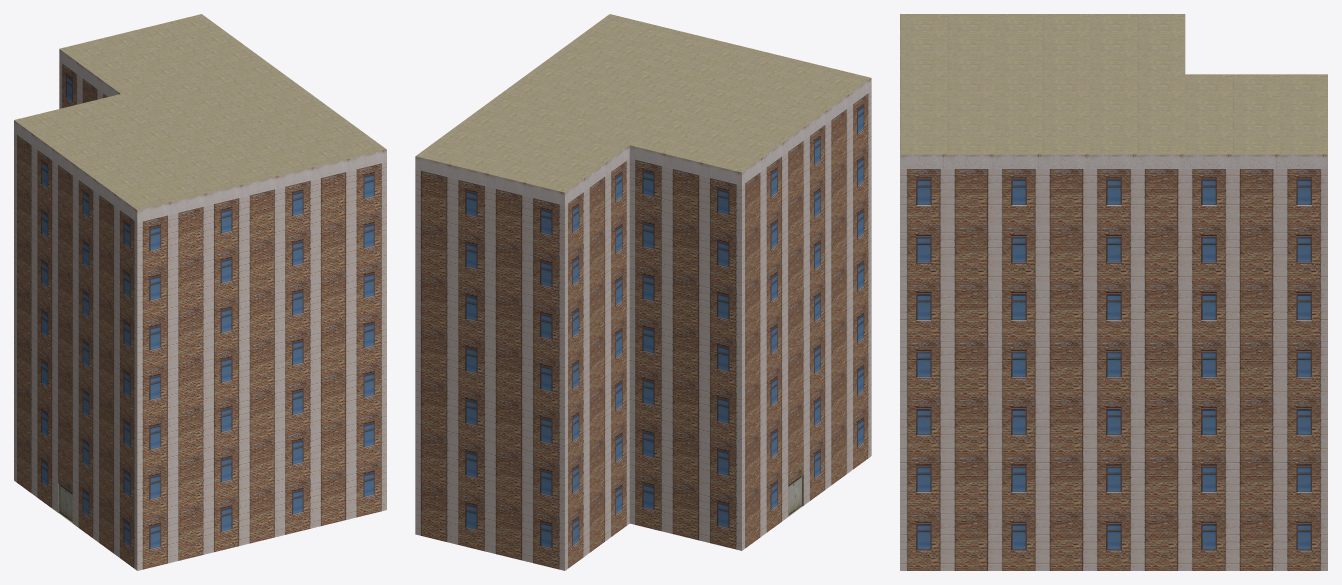
File: flat_Lshape_vertical_stripes.glb
The picture shows the model from 3 angles, left to right: view 1: azimuth 30°, elevation 25°; view 2: azimuth 150°, elevation 25°; view 3: azimuth 270°, elevation 25°; orthographic projection. The views are drawn at different scales.
Visible parts, largest first — view 1: flat_Lshape_vertical_stripes; view 2: flat_Lshape_vertical_stripes; view 3: flat_Lshape_vertical_stripes.
Boxes of the visible parts, x1,y1,x2,y2 form: flat_Lshape_vertical_stripes: (14,14,386,570); flat_Lshape_vertical_stripes: (415,14,871,570); flat_Lshape_vertical_stripes: (900,14,1327,570).
Size of the model in its own units: 21 by 29 by 27.
1 material, 1 textured.
